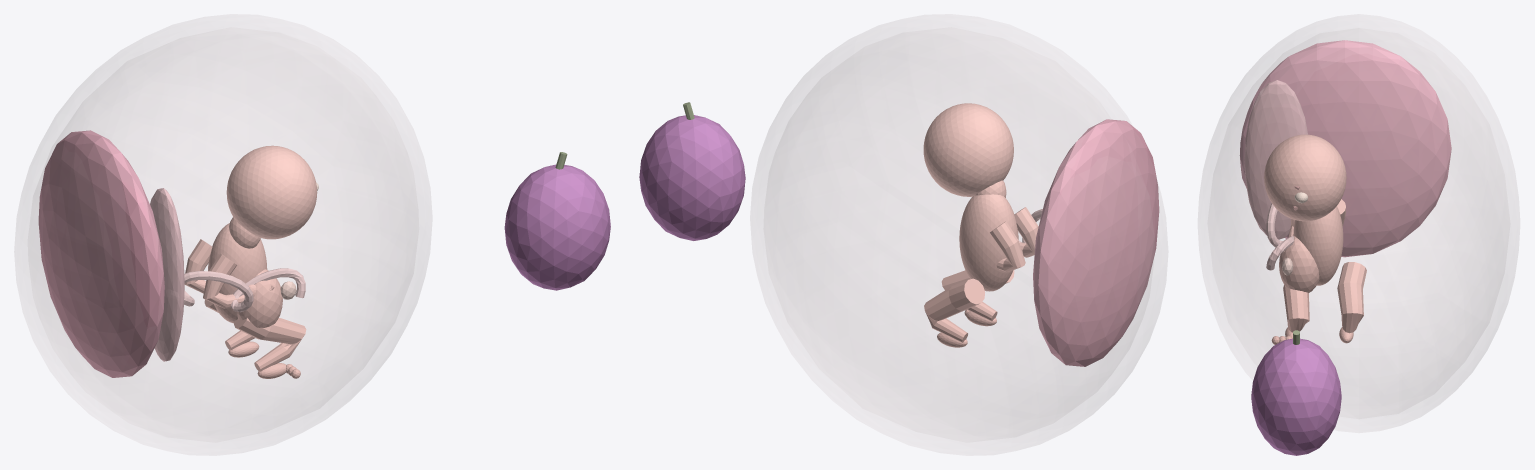
File: hafta_12.glb
3 renders of one model, left to right at view 1: azimuth 30°, elevation 25°; view 2: azimuth 150°, elevation 25°; view 3: azimuth 270°, elevation 25°, orthographic. The views are drawn at different scales.
Parts seen in each view (by area): view 1: Gebelik_kesesi_dis_zar_24, Plasenta_gelisen_doku_26, Meyve_Erik_28, Bas_1, Plasenta_yumusak_yuzey_27, Gogus_govde_2, Bacak_on_17, Gobek_kordonu_ogretici_23, Gobel_ve_karin_3, Kol_on_10, Kol_on_arka_8; view 2: Gebelik_kesesi_dis_zar_24, Plasenta_gelisen_doku_26, Meyve_Erik_28, Bas_1, Gogus_govde_2, Bacak_arka_15, Kol_on_arka_8, Kol_on_10, Bacak_on_17; view 3: Gebelik_kesesi_dis_zar_24, Plasenta_gelisen_doku_26, Meyve_Erik_28, Bas_1, Plasenta_yumusak_yuzey_27, Gogus_govde_2, Bacak_arka_15, Gobel_ve_karin_3, Bacak_on_17, Gobek_kordonu_ogretici_23.
Boxes of the visible parts, x1,y1,x2,y2 form: Gebelik_kesesi_dis_zar_24: (14,14,431,455); Plasenta_gelisen_doku_26: (38,130,164,377); Meyve_Erik_28: (504,164,610,290); Bas_1: (226,145,317,239); Plasenta_yumusak_yuzey_27: (150,188,184,361); Gogus_govde_2: (208,223,267,323); Bacak_on_17: (234,317,306,371); Gobek_kordonu_ogretici_23: (184,268,305,312); Gobel_ve_karin_3: (237,269,282,327); Kol_on_10: (203,253,244,308); Kol_on_arka_8: (184,239,212,293); Gebelik_kesesi_dis_zar_24: (750,14,1167,455); Plasenta_gelisen_doku_26: (1033,119,1159,366); Meyve_Erik_28: (639,115,745,240); Bas_1: (923,103,1013,196); Gogus_govde_2: (959,194,1018,291); Bacak_arka_15: (924,278,985,342); Kol_on_arka_8: (989,221,1025,271); Kol_on_10: (1014,207,1038,257); Bacak_on_17: (941,270,1014,321); Gebelik_kesesi_dis_zar_24: (1198,14,1519,432); Plasenta_gelisen_doku_26: (1239,40,1451,257); Meyve_Erik_28: (1251,338,1341,455); Bas_1: (1264,134,1346,221); Plasenta_yumusak_yuzey_27: (1244,80,1307,239); Gogus_govde_2: (1293,206,1343,285); Bacak_arka_15: (1337,262,1366,333); Gobel_ve_karin_3: (1279,236,1319,292); Bacak_on_17: (1283,285,1309,332); Gobek_kordonu_ogretici_23: (1266,203,1294,270).
Bounding box in the file's own units: 11.03 × 8.1 × 6.2.
